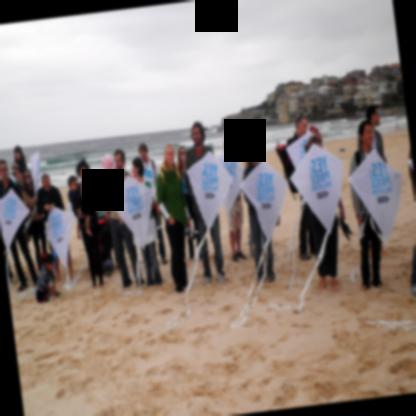backpack: (159, 167, 180, 185), (151, 157, 156, 180)
